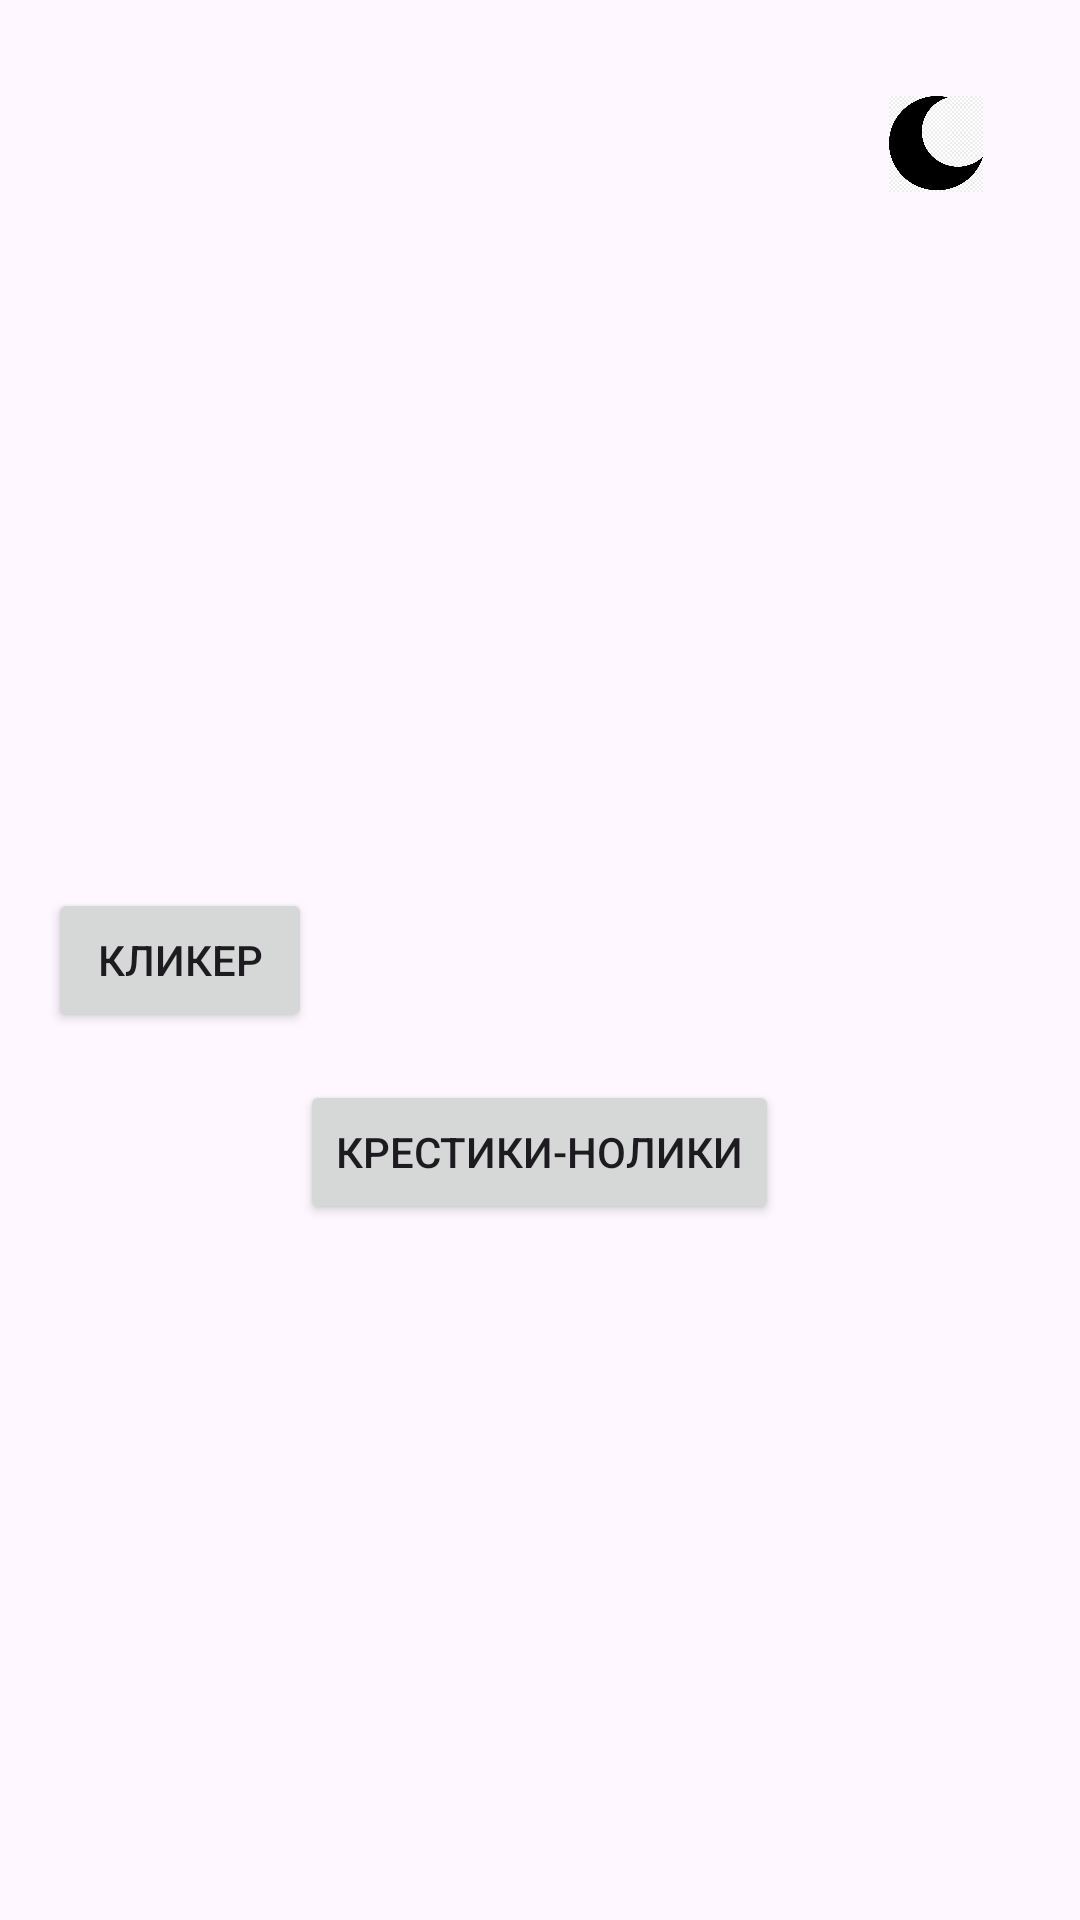

Icons on this 1080w x 1920h Android screen, each with the point to tap as [x,y]:
Смена темы: [936,144]
